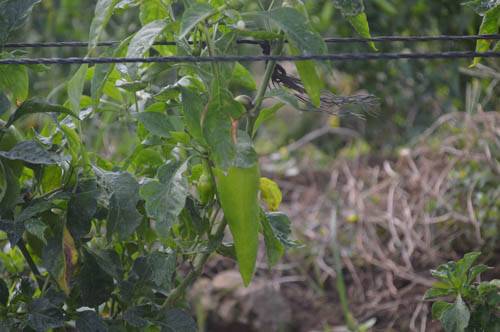ChiliPepper: (212, 148, 264, 285)
